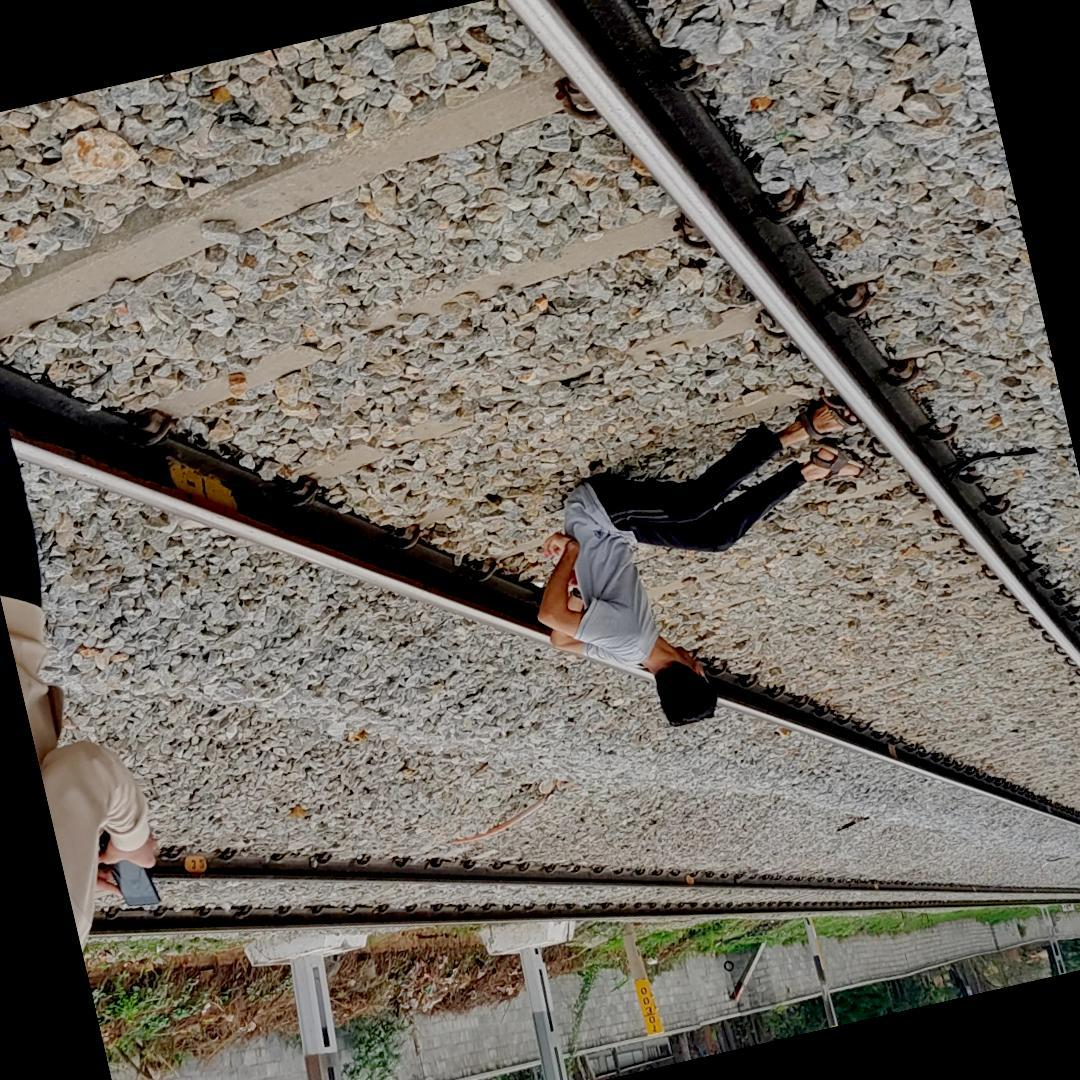sitting: (475, 375, 934, 779)
